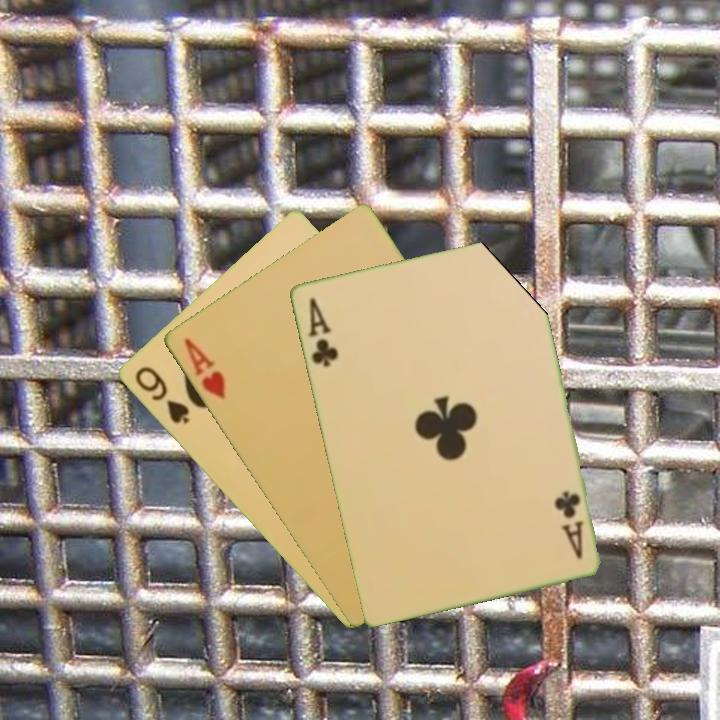9s: (130, 362, 192, 427)
Ac: (304, 293, 341, 370), (550, 487, 586, 562)
Ah: (180, 334, 228, 402)
